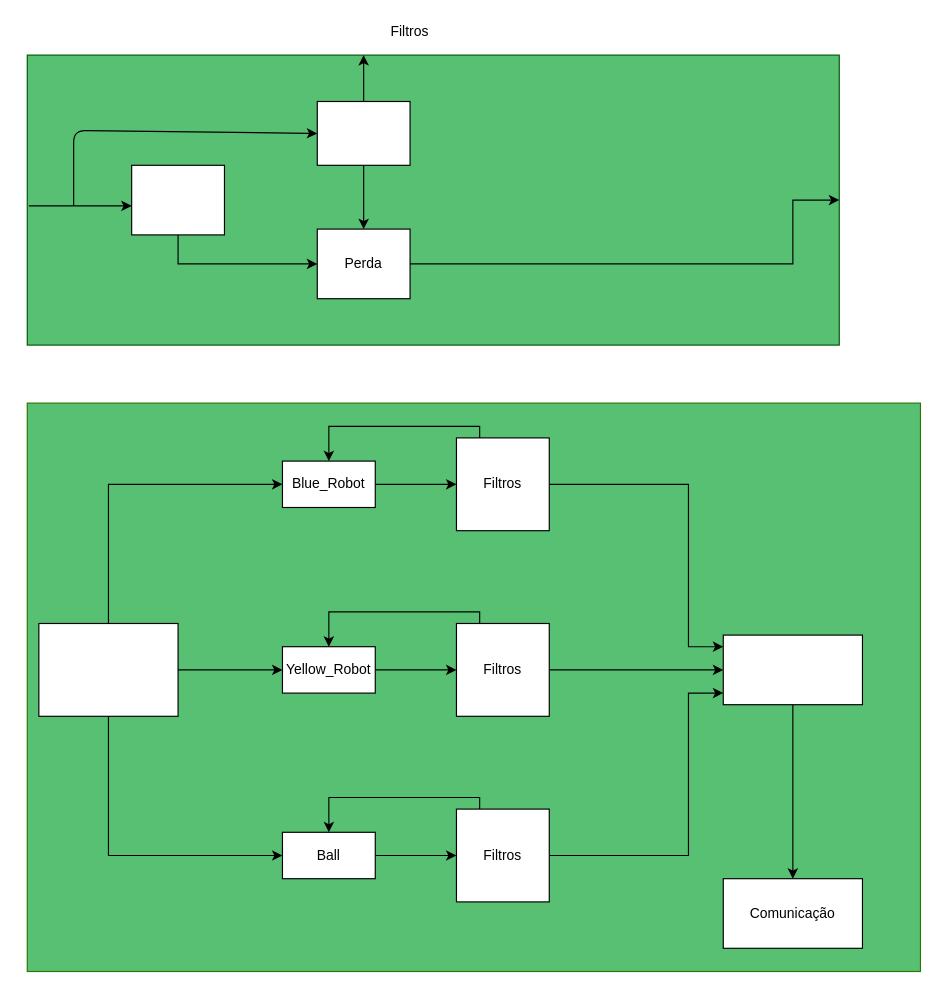
Image size: 941x992. Some labels were removed from this diagram. Here are the shapes that lost their labels. From the top down, the centre of each, then its label:
At point (363, 132): "Kalman".
At point (177, 199): "Ruído".
At point (108, 669): "Visão".
At point (792, 669): "Estratégia".
